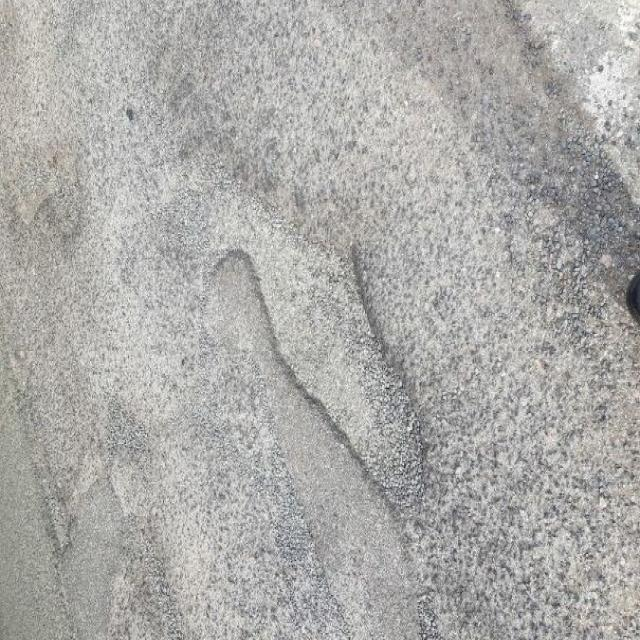pothole: (201, 180, 438, 522)
